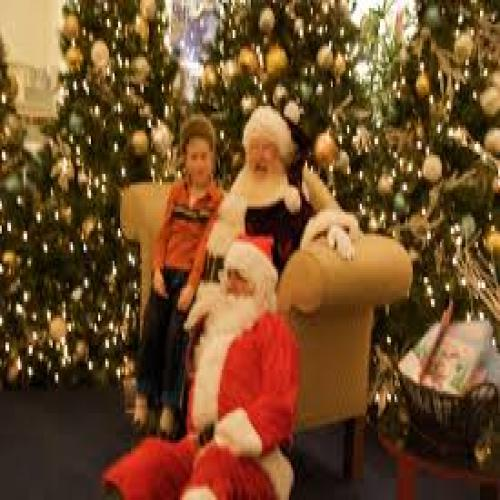Santa: (100, 234, 298, 497)
